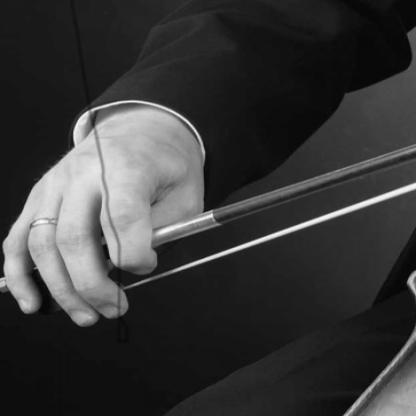good: (0, 139, 224, 345)
